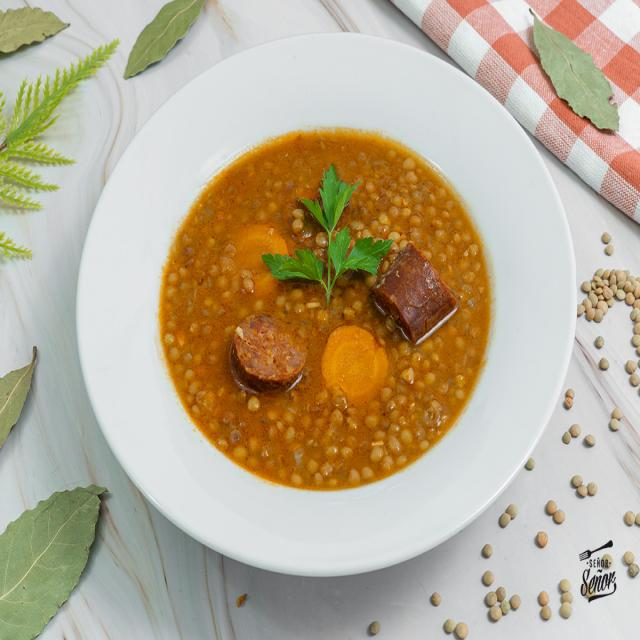lentejas: (155, 114, 502, 501)
